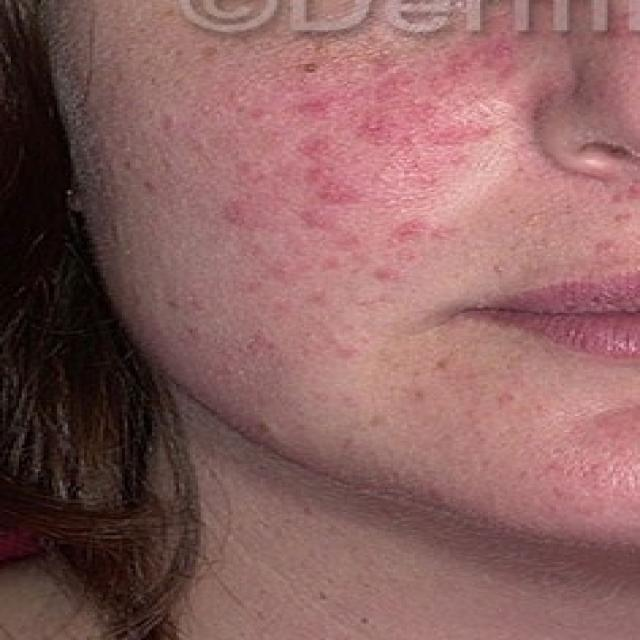Rosacea: (173, 65, 511, 246)
